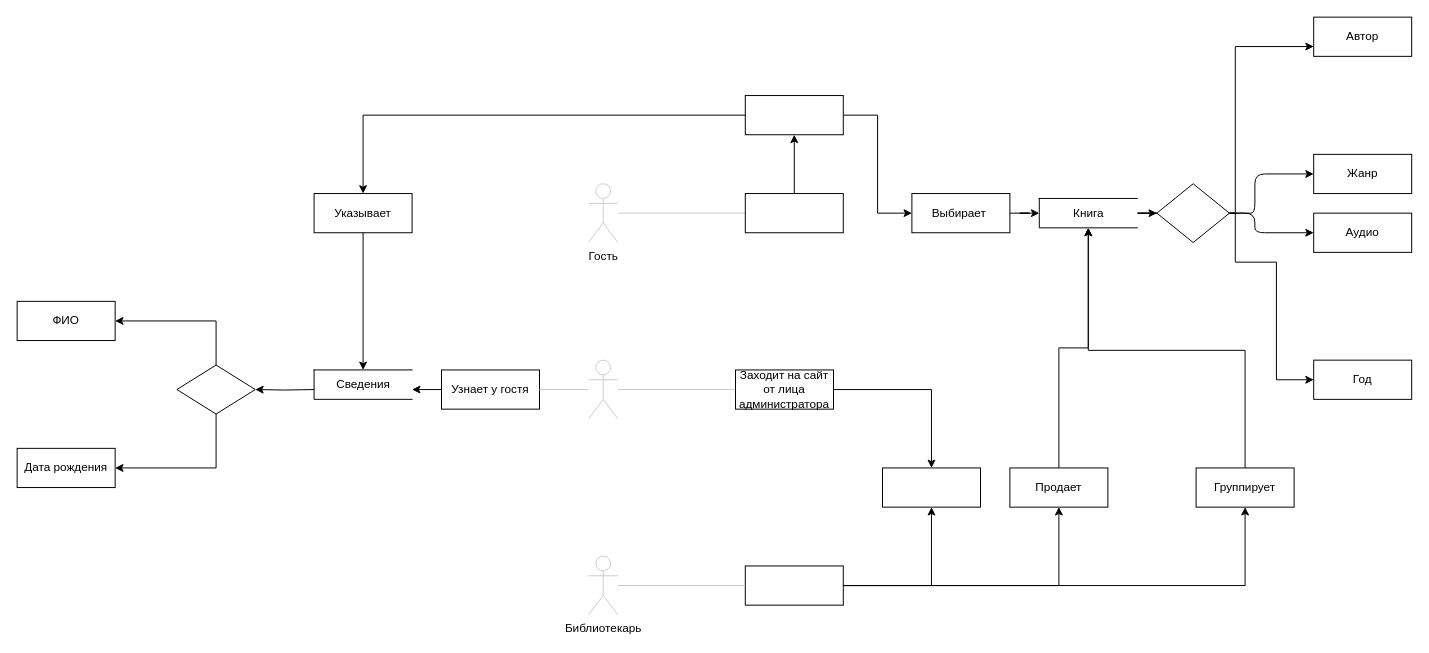
Image size: 1429x653. Some labels were removed from this diagram. The shapes that lost their labels are listed below. From the top down, each one's centre as x and y in pixels, then its label:
At point (793, 115): "Регистрация".
At point (793, 213): "Заходит на сайт от лица гостя".
At point (603, 389): "Администратор".
At point (931, 487): "Принимают новые книги".
At point (793, 585): "Заходит на сайт от лица библиотекоря".
